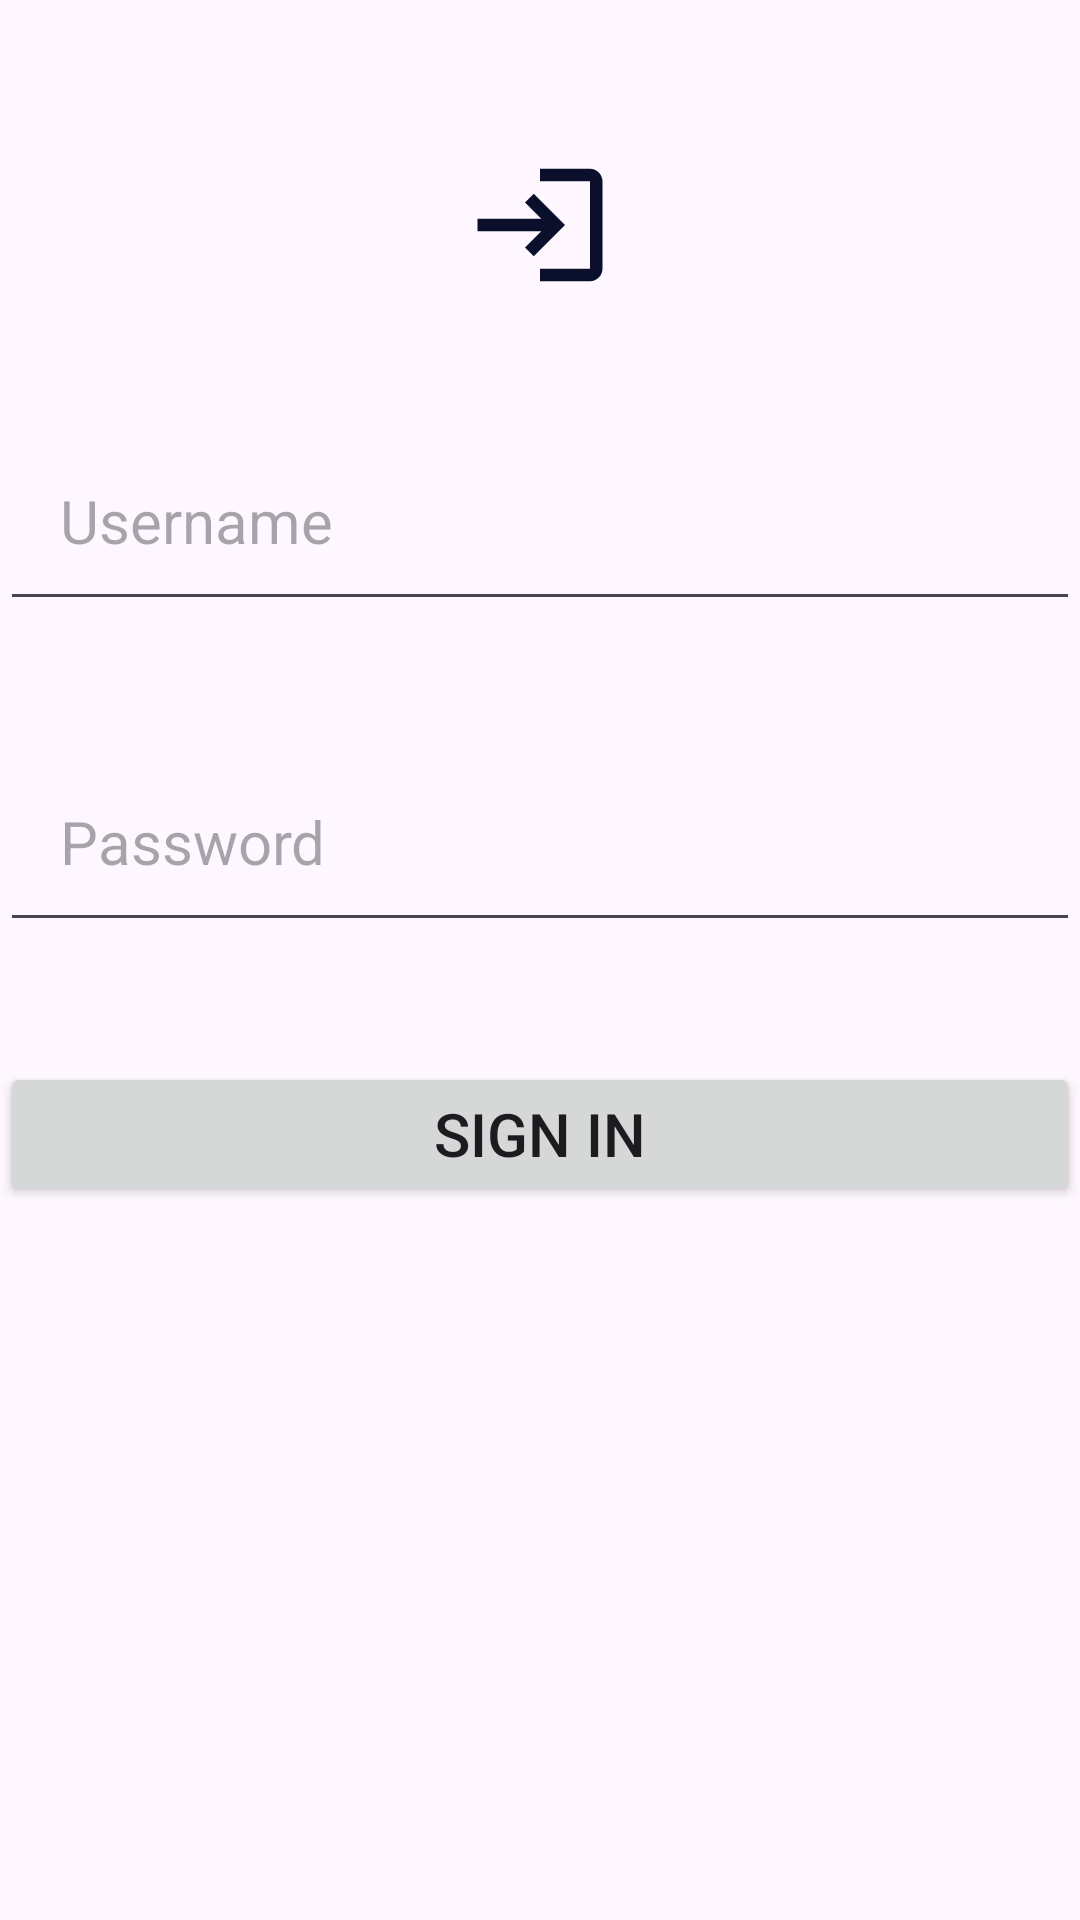

Locate icon controls on the screen. Image size 1080×1920, boxes as (x1, y1, x2, y2).
login: (477, 168, 603, 282)
